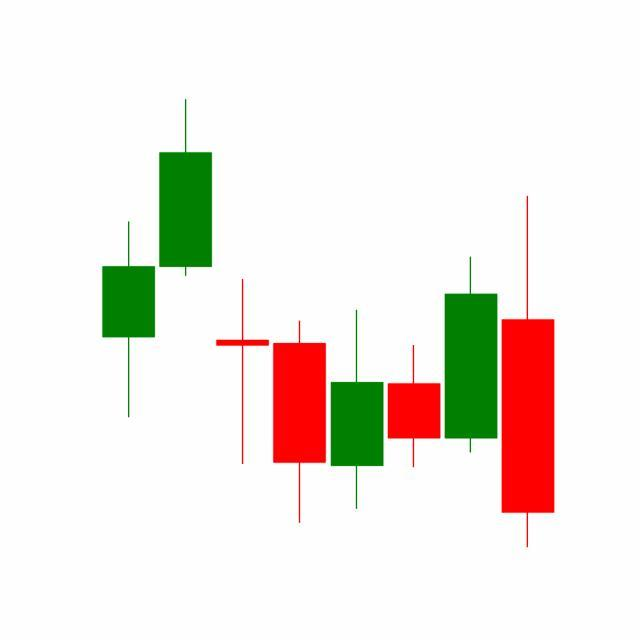Hikkake Pattern: (270, 192, 555, 549)
